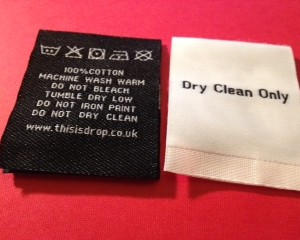ER_iron_low_temp: (108, 48, 130, 62)
ER_no_bleach: (64, 42, 86, 60)
ER_no_dry_clean: (134, 47, 155, 63)
ER_tumble_dry_low_heat: (88, 45, 106, 62)
